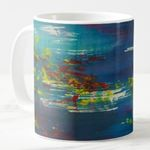cups: (9, 9, 139, 144)
